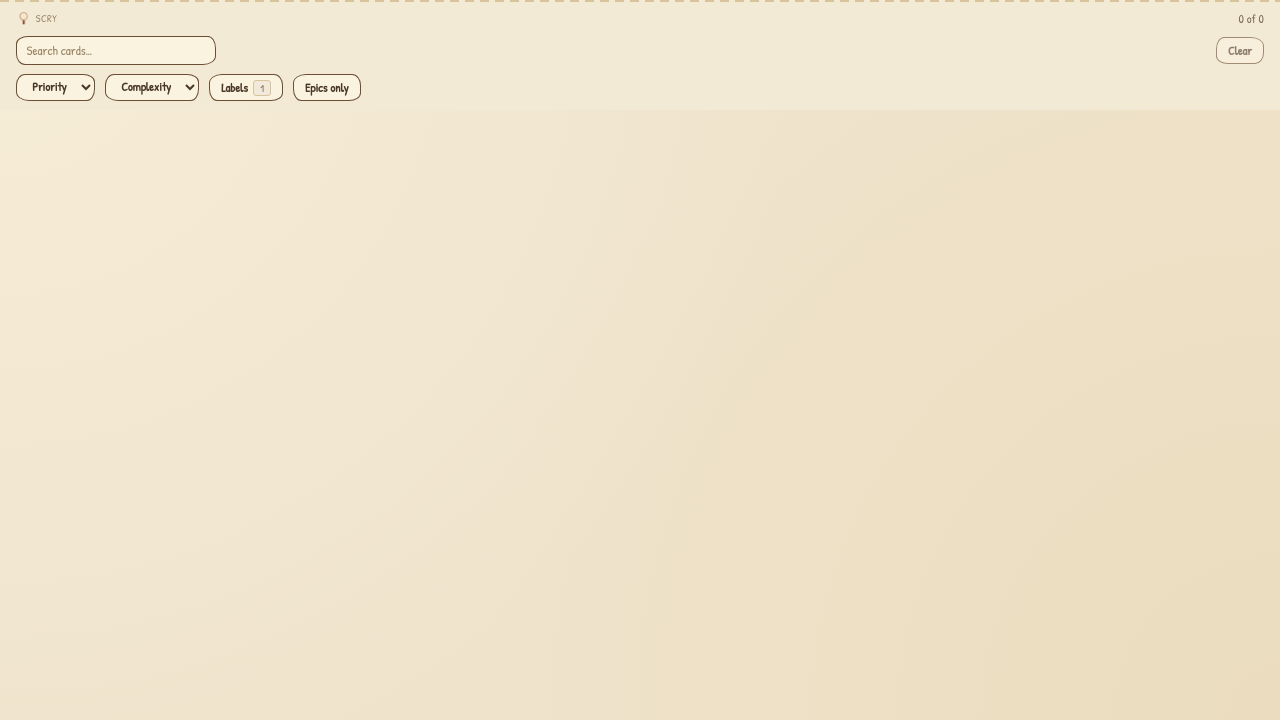
Scenario: <FilterBar/> › Labels button toggles the popover
The width and height of the screenshot is (1280, 720).
What coordinates should you click on to do the following:
click the button "Labels 1"
I would click on:
 (246, 88)
Its box is [209,74,283,101].
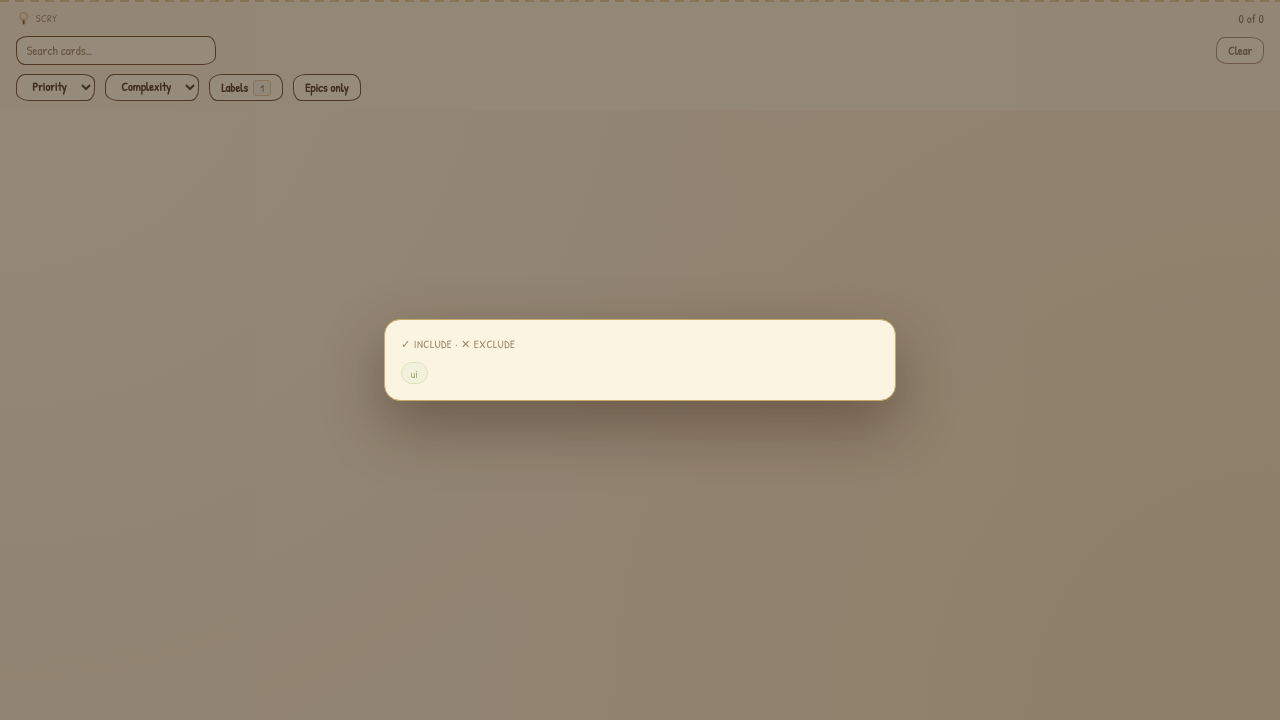
Now the button "ui" is shown, box [401,362,428,384]
